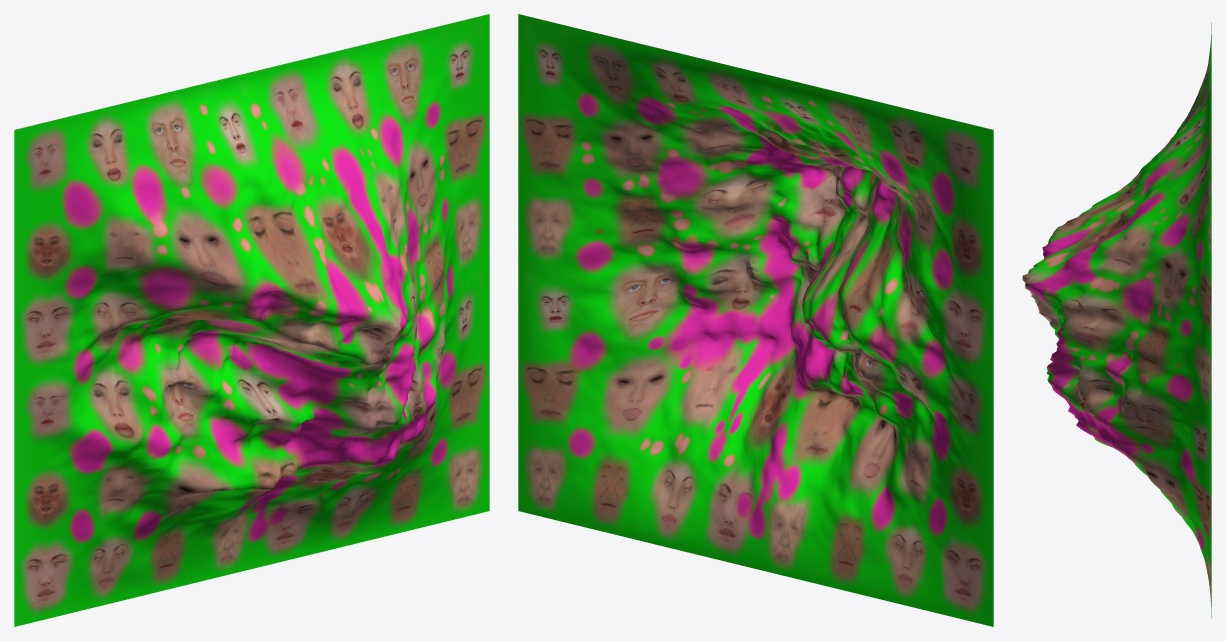
File: asset.gltf
The picture shows the model from 3 angles, left to right: view 1: azimuth 30°, elevation 25°; view 2: azimuth 150°, elevation 25°; view 3: azimuth 270°, elevation 25°; orthographic projection. The views are drawn at different scales.
Parts seen in each view (by area): view 1: 地形; view 2: 地形; view 3: 地形.
Part boxes in pixels (x1=…): 地形: x1=14, y1=14, x2=489, y2=626; 地形: x1=518, y1=14, x2=993, y2=626; 地形: x1=1022, y1=22, x2=1211, y2=617.
Size of the model in its own units: 95.24 by 95.24 by 39.04.
1 material, 1 textured.
